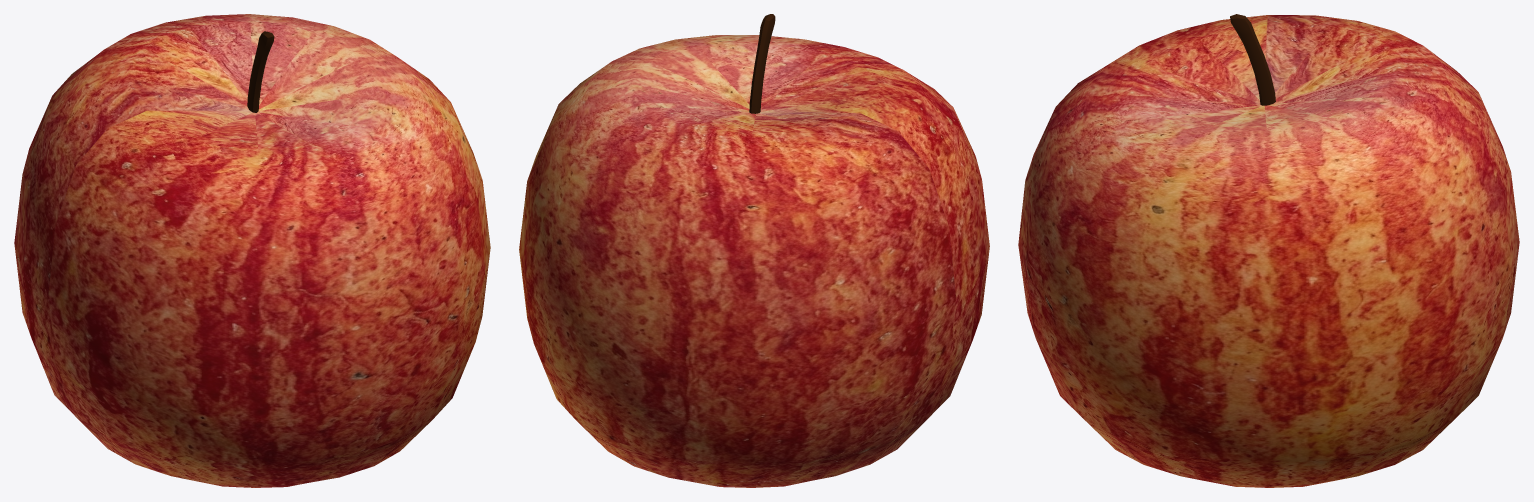
File: apple3.glb
3 views of the same model, side by side, from view 1: azimuth 30°, elevation 25°; view 2: azimuth 150°, elevation 25°; view 3: azimuth 270°, elevation 25° (orthographic). The views are drawn at different scales.
Parts seen in each view (by area): view 1: AppleBody; view 2: AppleBody; view 3: AppleBody.
Boxes of the visible parts, x1,y1,x2,y2 form: AppleBody: (14,14,490,487); AppleBody: (519,14,989,487); AppleBody: (1018,14,1519,487).
Bounding box in the file's own units: 0.2667 × 0.2621 × 0.2789.
Materials: 2 (1 with a texture image).
